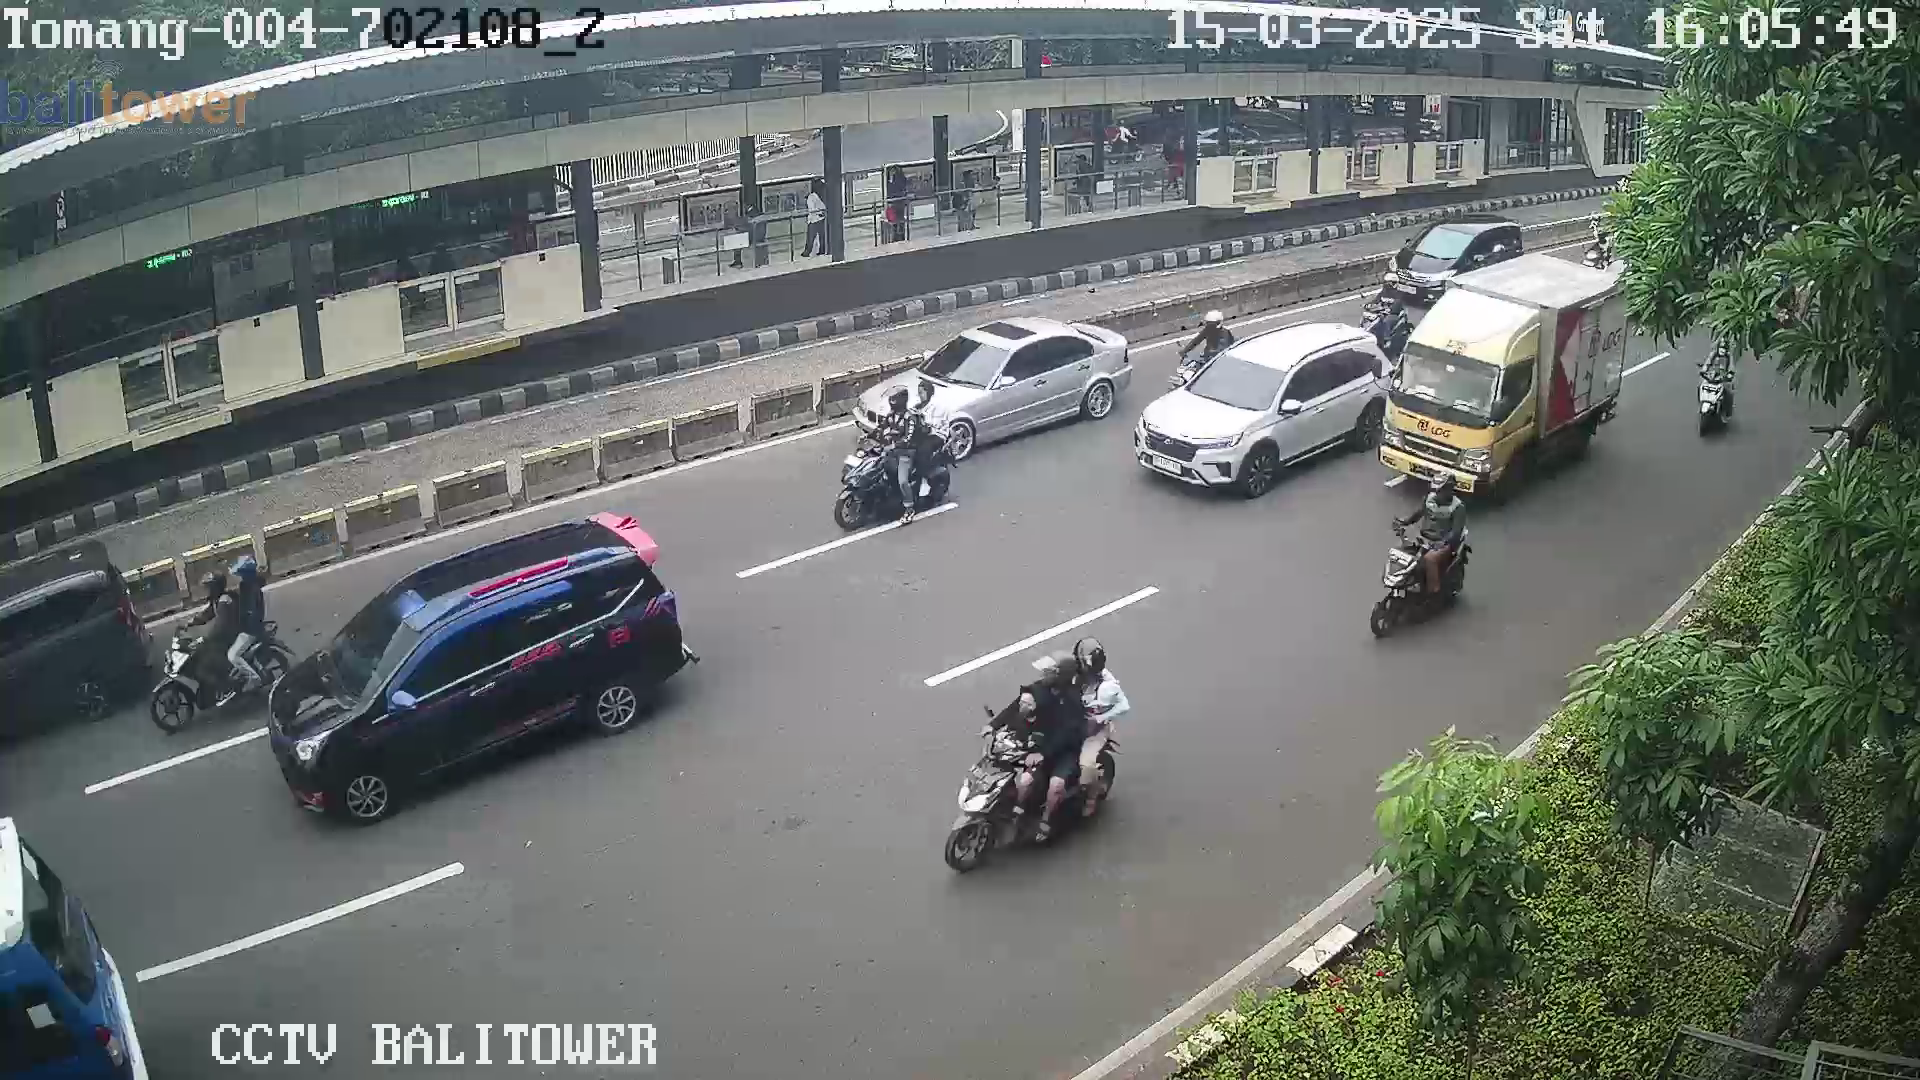half-face helmet: (1041, 641, 1084, 718), (1074, 635, 1108, 688), (1427, 471, 1466, 514), (233, 545, 278, 582), (878, 382, 917, 418), (198, 559, 229, 596), (1200, 306, 1231, 343), (1378, 271, 1417, 300), (1715, 339, 1741, 376)
no helmet: (1012, 684, 1047, 726), (912, 375, 947, 408)
